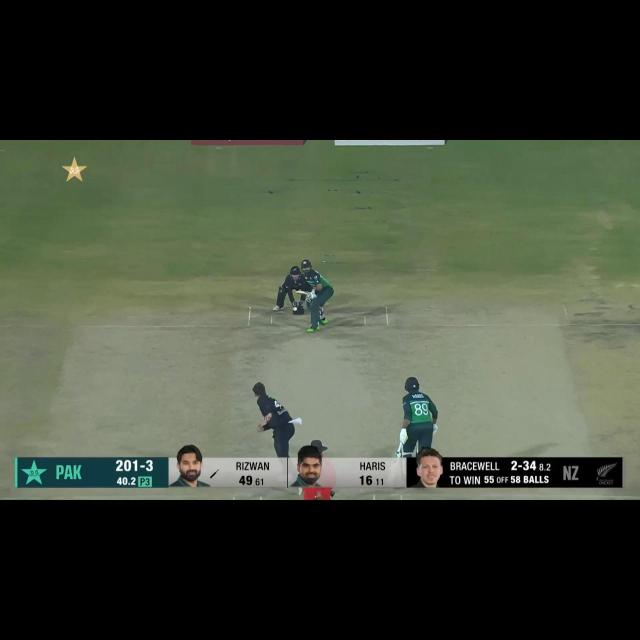bat: (295, 290, 308, 296), (393, 452, 403, 457)
toe: (294, 290, 299, 296)
